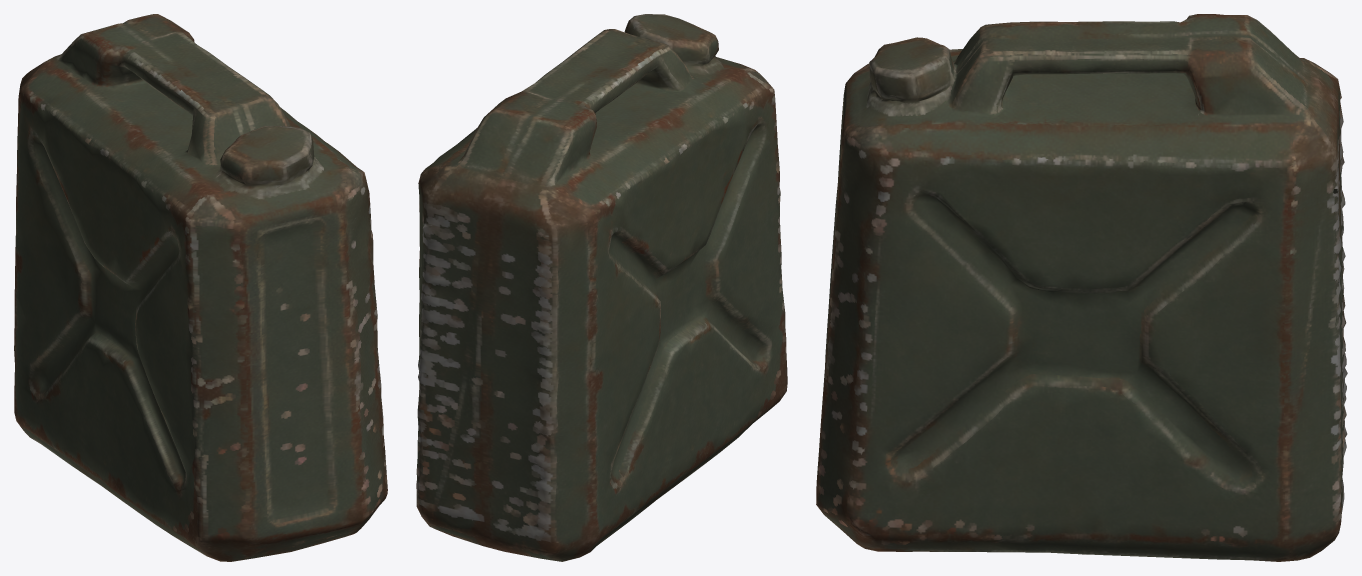
The model's file is gas_can_candidate.glb.
3 renders of one model, left to right at view 1: azimuth 30°, elevation 25°; view 2: azimuth 150°, elevation 25°; view 3: azimuth 270°, elevation 25°, orthographic. The views are drawn at different scales.
Parts seen in each view (by area): view 1: gas_can_candidate; view 2: gas_can_candidate; view 3: gas_can_candidate.
Boxes of the visible parts, x1,y1,x2,y2 form: gas_can_candidate: [14, 14, 387, 561]; gas_can_candidate: [416, 14, 787, 561]; gas_can_candidate: [816, 14, 1347, 561].
Size of the model in its own units: 0.3976 by 0.8458 by 0.8235.
1 material, 1 textured.
